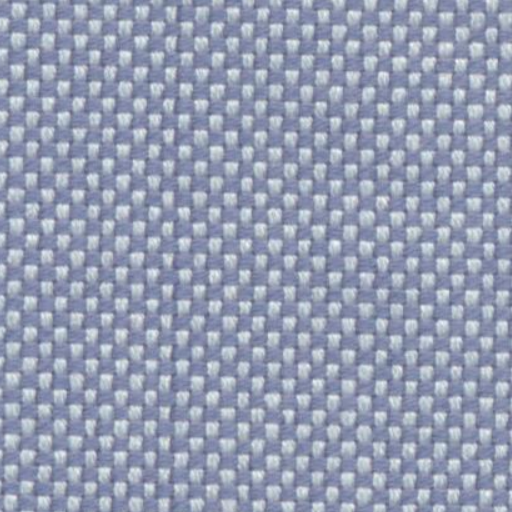TuoSha: (138, 22, 201, 500)
